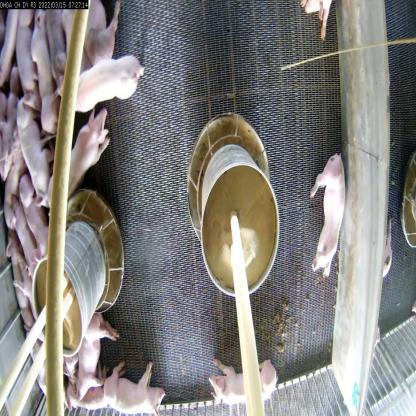Pig: (45, 112, 114, 205), (203, 350, 281, 415), (75, 298, 118, 398), (107, 350, 169, 415), (71, 52, 142, 104), (27, 13, 56, 138), (13, 99, 48, 188), (20, 177, 58, 258), (310, 154, 342, 244), (3, 232, 33, 319), (14, 205, 44, 281)
